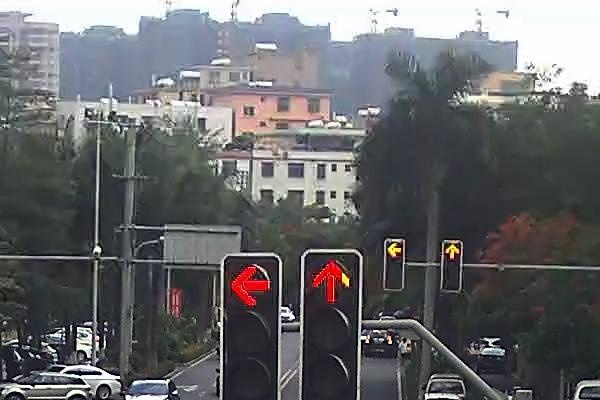redleft: (228, 264, 272, 310), (384, 241, 404, 259)
redstraight: (308, 258, 355, 305), (443, 243, 463, 260)
